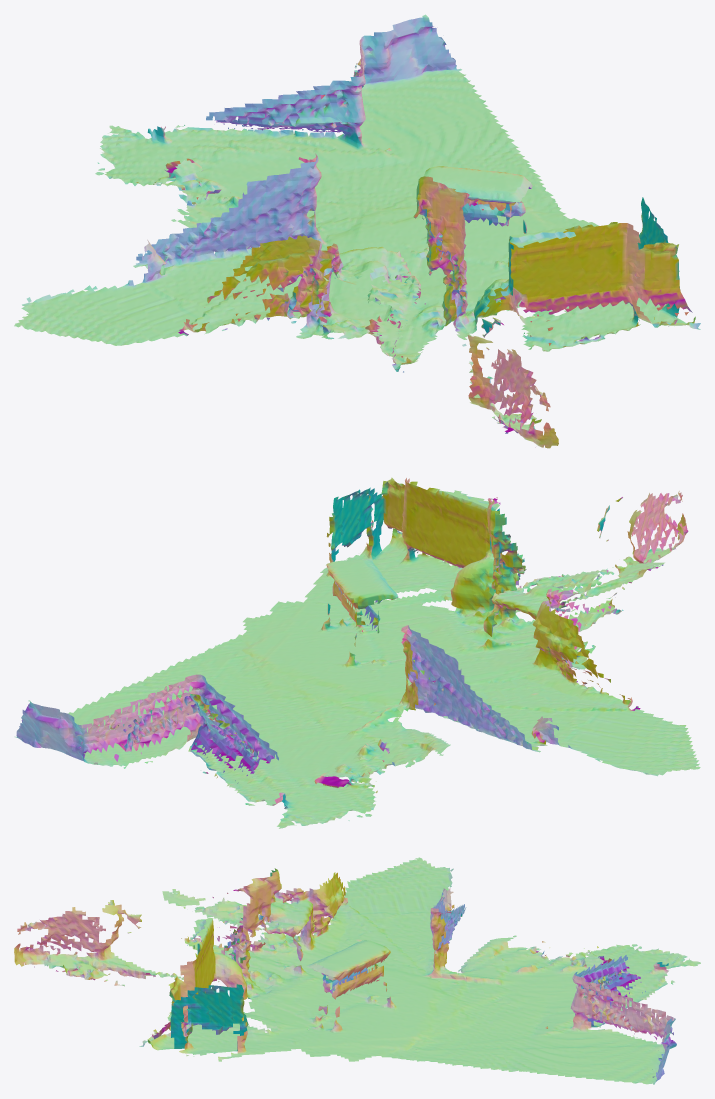
File: 4d5c7297-Bathroom_table.glb
The picture shows the model from 3 angles, top to bottom: view 1: azimuth 30°, elevation 25°; view 2: azimuth 150°, elevation 25°; view 3: azimuth 270°, elevation 25°; orthographic projection. The views are drawn at different scales.
Visible parts, largest first — view 1: AbundanceScan-2026-11-15_121520.glb; view 2: AbundanceScan-2026-11-15_121520.glb; view 3: AbundanceScan-2026-11-15_121520.glb.
Part boxes in pixels (x1,y1,x2,y2): AbundanceScan-2026-11-15_121520.glb: (14, 14, 700, 448); AbundanceScan-2026-11-15_121520.glb: (14, 477, 700, 828); AbundanceScan-2026-11-15_121520.glb: (14, 857, 700, 1084).
Size of the model in its own units: 4.76 by 1.23 by 6.08.
